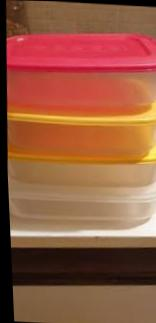plastic: (7, 33, 154, 116), (8, 153, 154, 230), (8, 102, 154, 162)
